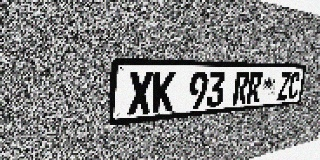3: (206, 72, 226, 108)
9: (188, 72, 209, 109)
C: (287, 72, 301, 99)
K: (152, 72, 176, 113)
R: (232, 72, 250, 105), (246, 72, 263, 103)
X: (127, 72, 153, 116)
Z: (277, 72, 291, 100)
